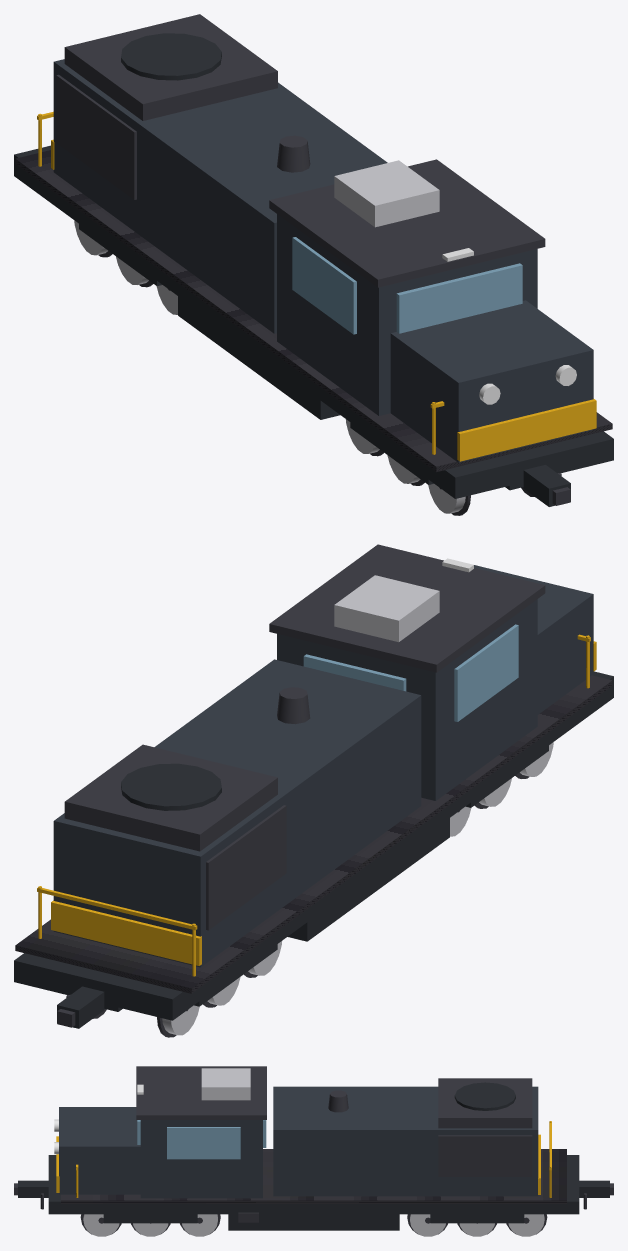
The model's file is locomotiva.glb.
3 renders of one model, top to bottom at view 1: azimuth 30°, elevation 25°; view 2: azimuth 150°, elevation 25°; view 3: azimuth 270°, elevation 25°, orthographic. The views are drawn at different scales.
Size of the model in its own units: 6 by 7.95 by 29.4.
Materials: 8 (1 with a texture image).
